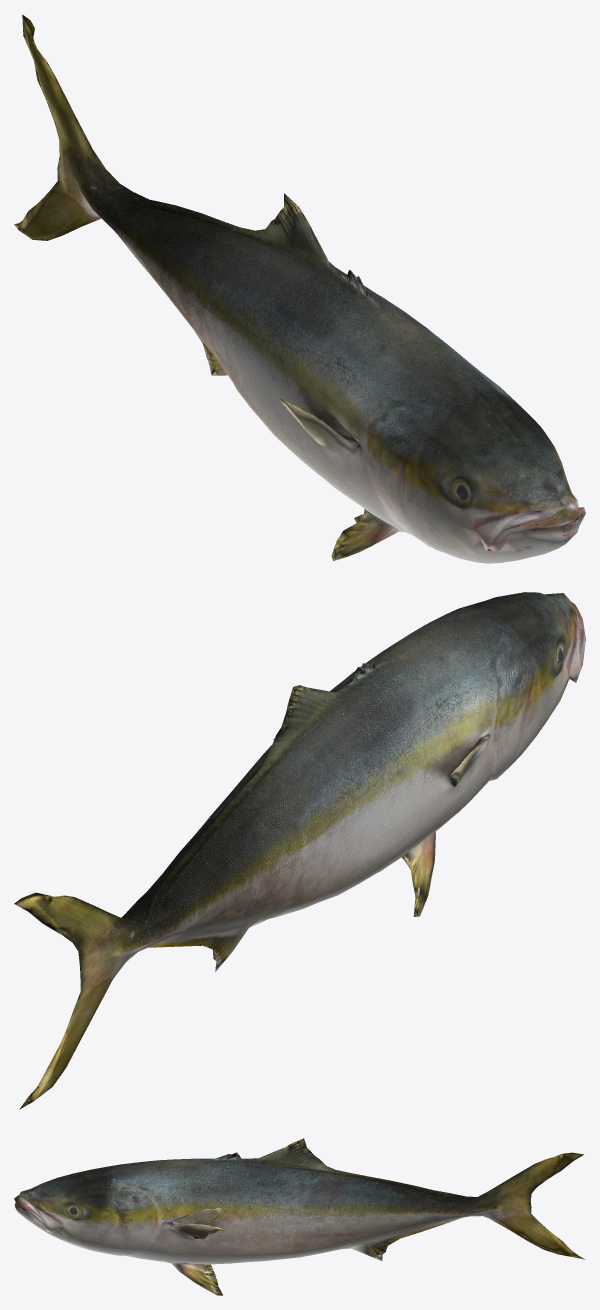
The model's file is kingfish.glb.
The picture shows the model from 3 angles, top to bottom: view 1: azimuth 30°, elevation 25°; view 2: azimuth 150°, elevation 25°; view 3: azimuth 270°, elevation 25°; orthographic projection. The views are drawn at different scales.
Parts seen in each view (by area): view 1: kingfish; view 2: kingfish; view 3: kingfish.
Boxes of the visible parts, x1,y1,x2,y2 form: kingfish: (14,14,585,563); kingfish: (14,592,585,1109); kingfish: (14,1138,584,1295).
Size of the model in its own units: 0.1592 by 0.2446 by 0.85.
Materials: 1 (1 with a texture image).
